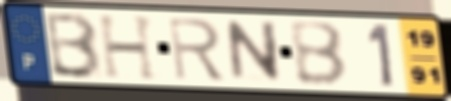1: (364, 22, 396, 90)
B: (286, 20, 350, 88), (45, 10, 105, 81)
H: (95, 14, 160, 82)
N: (224, 19, 284, 83)
R: (165, 15, 228, 83)
